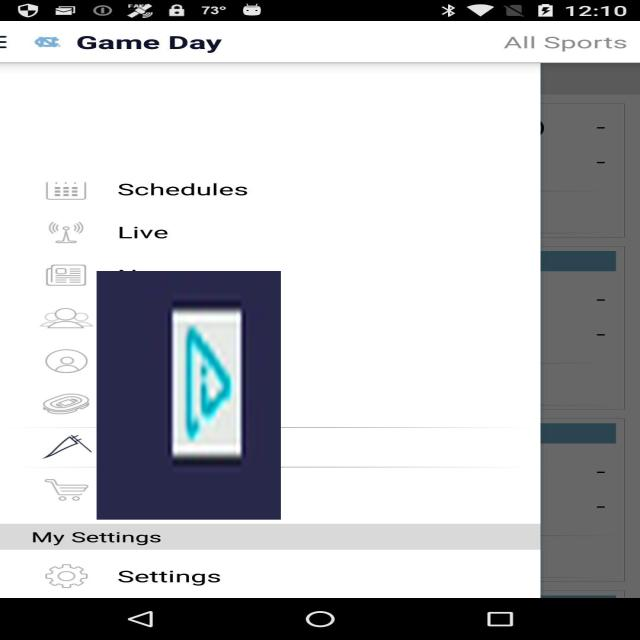sneaking: (96, 271, 281, 520)
